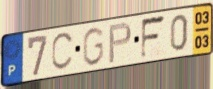0: (169, 12, 191, 54)
7: (26, 33, 49, 77)
C: (50, 30, 76, 73)
F: (139, 13, 167, 62)
G: (81, 26, 106, 68)
P: (107, 21, 133, 66)
